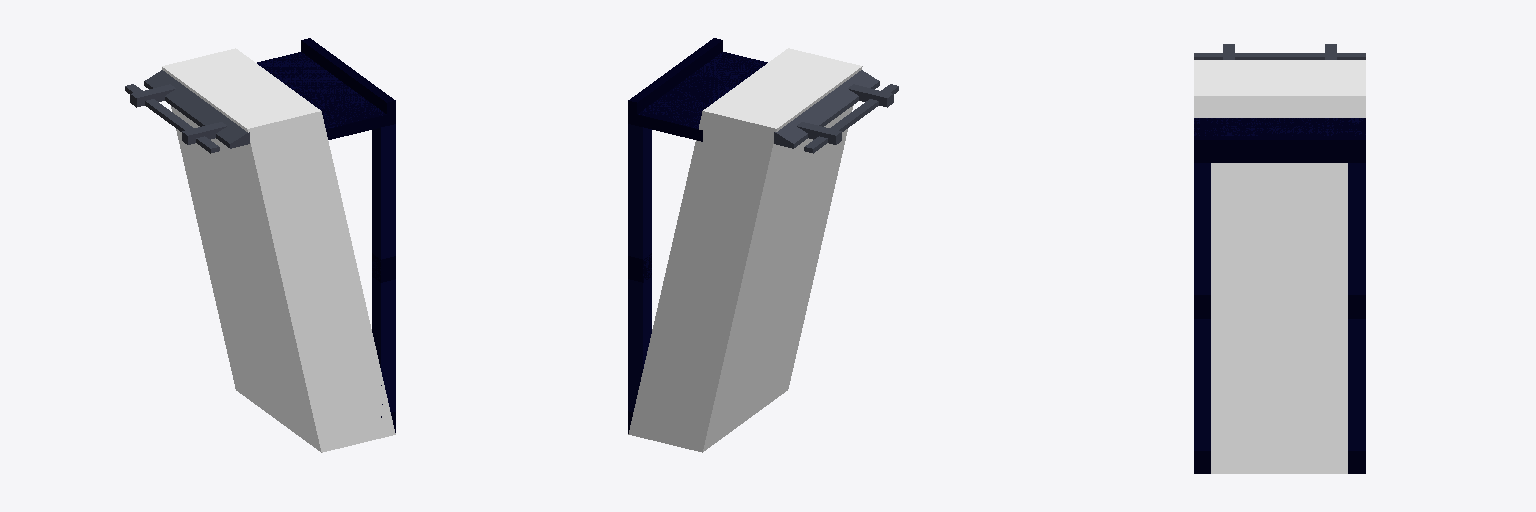
Rendered from wall.obj.
The picture shows the model from 3 angles: view 1: azimuth 30°, elevation 25°; view 2: azimuth 150°, elevation 25°; view 3: azimuth 270°, elevation 25°; orthographic projection.
Bounding box in the file's own units: 1.3 × 2.2 × 1.